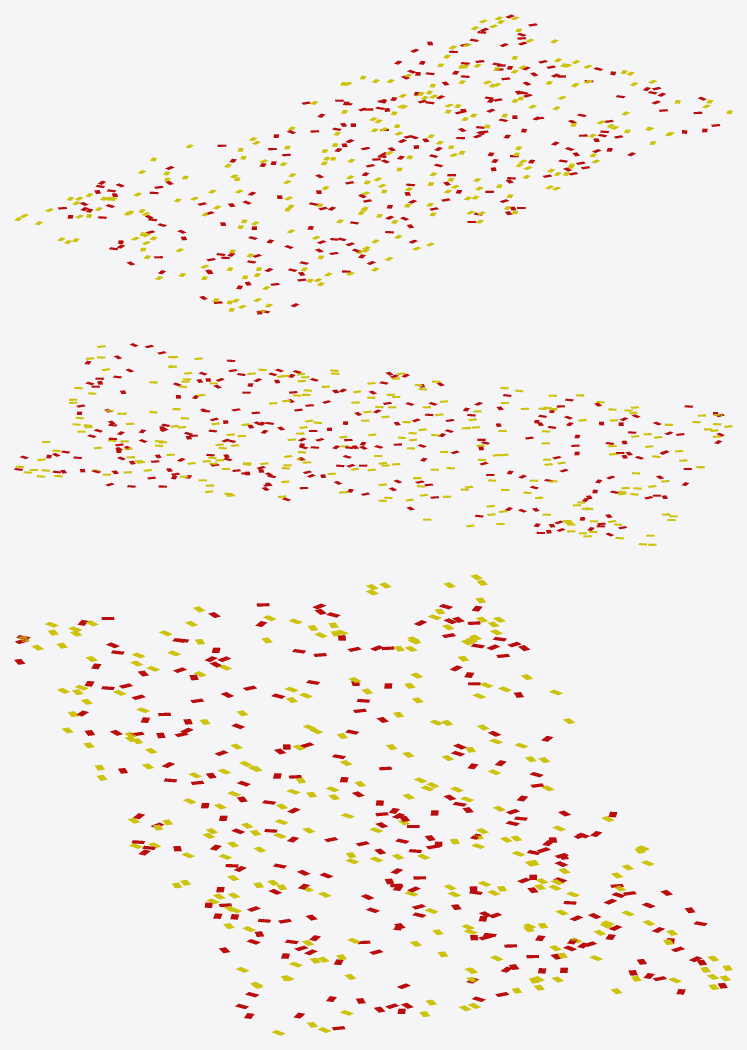
The model's file is uploads_files_2990306_Confettis.fbx.
3 views of the same model, one above another, from view 1: azimuth 30°, elevation 25°; view 2: azimuth 150°, elevation 25°; view 3: azimuth 270°, elevation 25° (orthographic). The views are drawn at different scales.
Parts seen in each view (by area): view 1: Confettis_02, Confettis_01; view 2: Confettis_01, Confettis_02; view 3: Confettis_02, Confettis_01.
Boxes of the visible parts, box(x1,y1,x2,y2) form: Confettis_02: box(58, 14, 720, 314); Confettis_01: box(14, 16, 732, 312); Confettis_01: box(15, 345, 732, 545); Confettis_02: box(14, 343, 724, 536); Confettis_02: box(14, 603, 727, 1030); Confettis_01: box(19, 574, 732, 1035).
Bounding box in the file's own units: 217 × 0 × 143.
